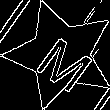M_NE: (26, 21, 95, 89)
